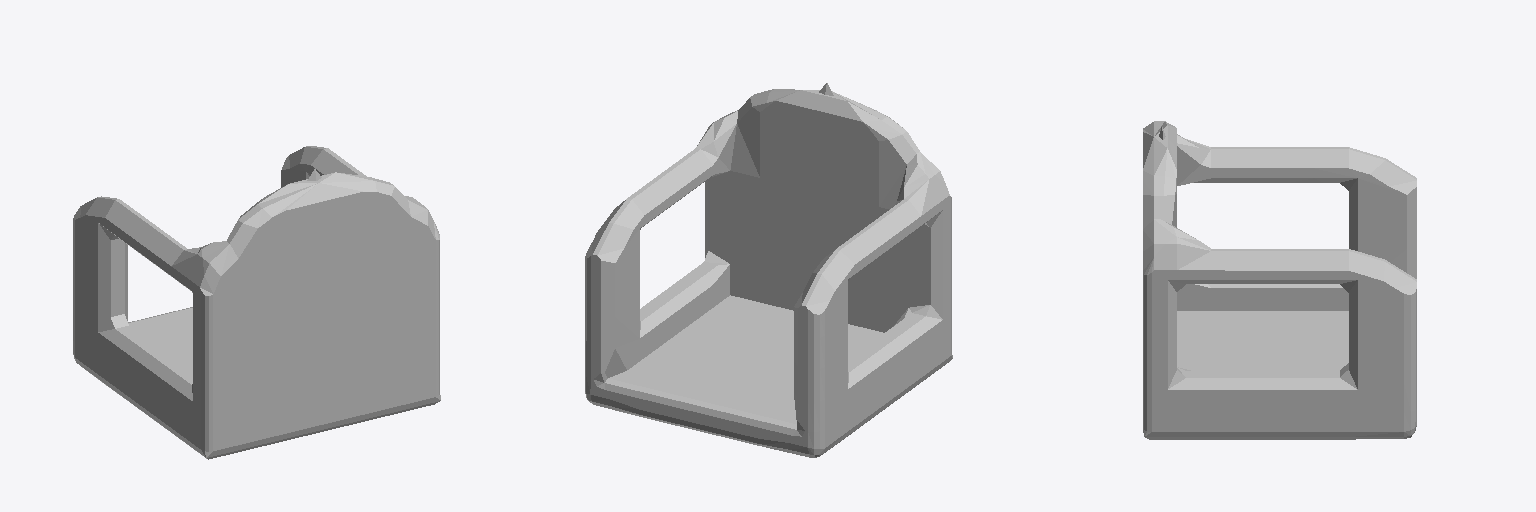
The model's file is Flying Swings swing.obj.
3 renders of one model, left to right at view 1: azimuth 30°, elevation 25°; view 2: azimuth 150°, elevation 25°; view 3: azimuth 270°, elevation 25°, orthographic.
Visible parts, largest first — view 1: Seater; view 2: Seater; view 3: Seater.
Part boxes in pixels (x1,y1,x2,y2): Seater: (73,146,440,459); Seater: (585,83,952,457); Seater: (1143,121,1416,439).
Bounding box in the file's own units: 5 × 5.25 × 5.